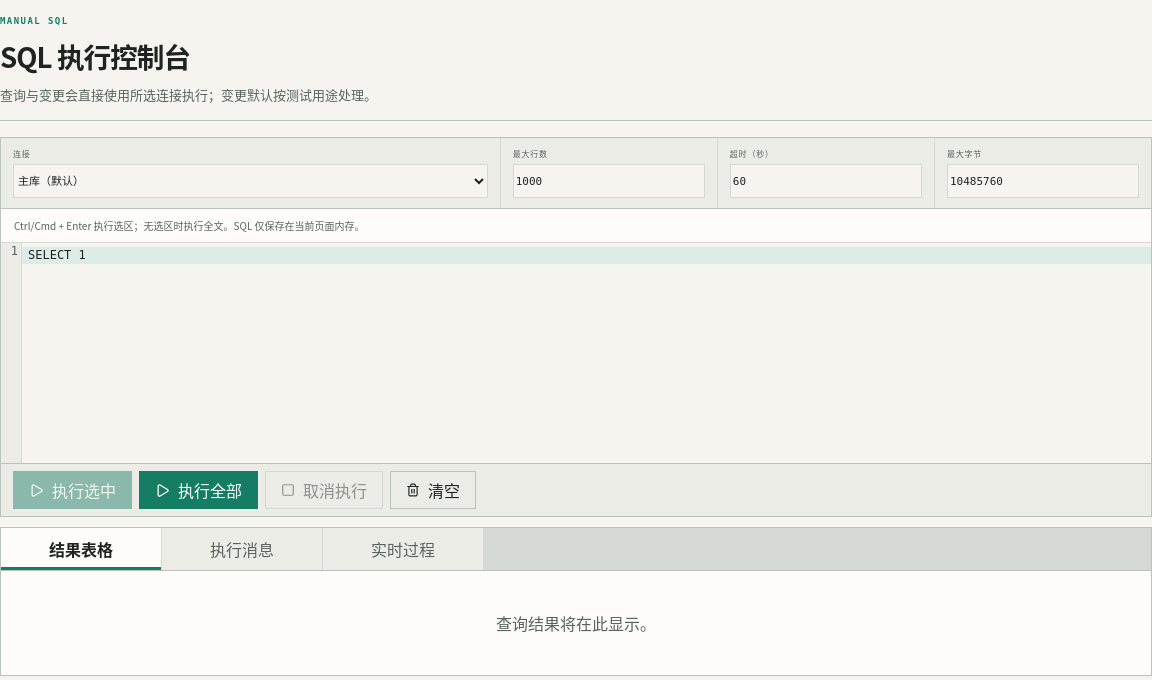
Test: SqlConsolePage › treats a mismatched response id as uncertain before marking HTTP terminal
The width and height of the screenshot is (1152, 680).
Click the button "执行全部": [198, 490] box top-left (139, 471), bottom-right (258, 509)
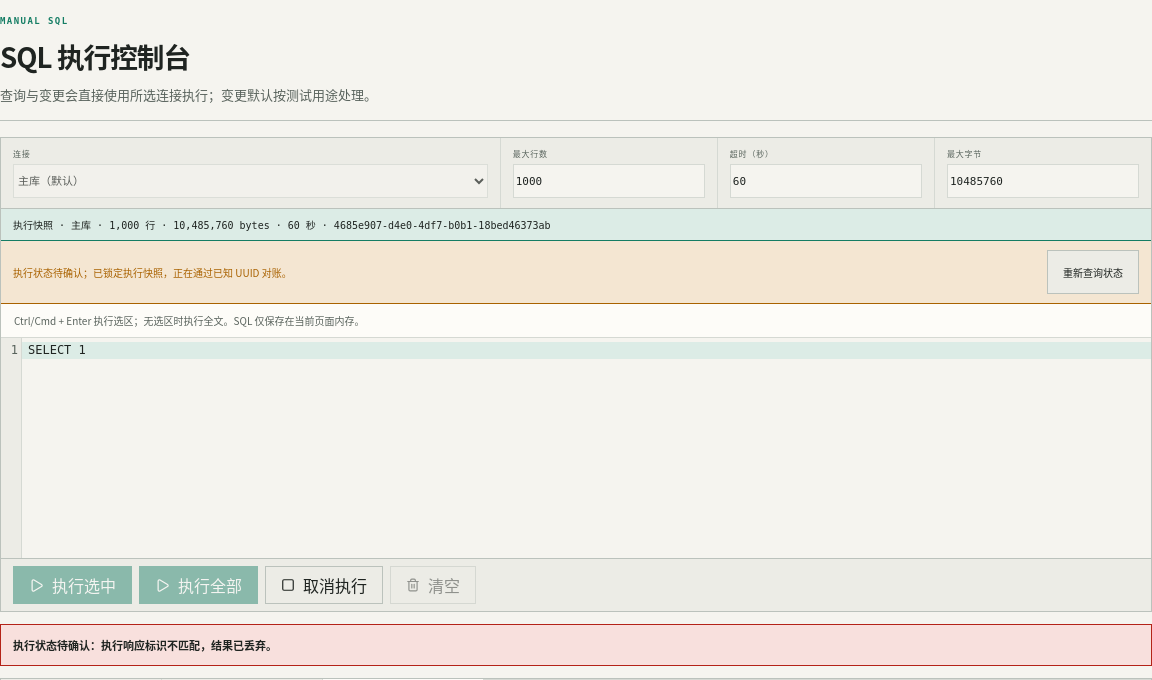
Check: the message "执行状态待确认；已锁定执行快照，正在通过已知 UUID 对账。 重新查询状态" is shown, box top-left (1, 241), bottom-right (1151, 304)
Check: the button "执行全部" is disabled, box top-left (139, 566), bottom-right (258, 604)
